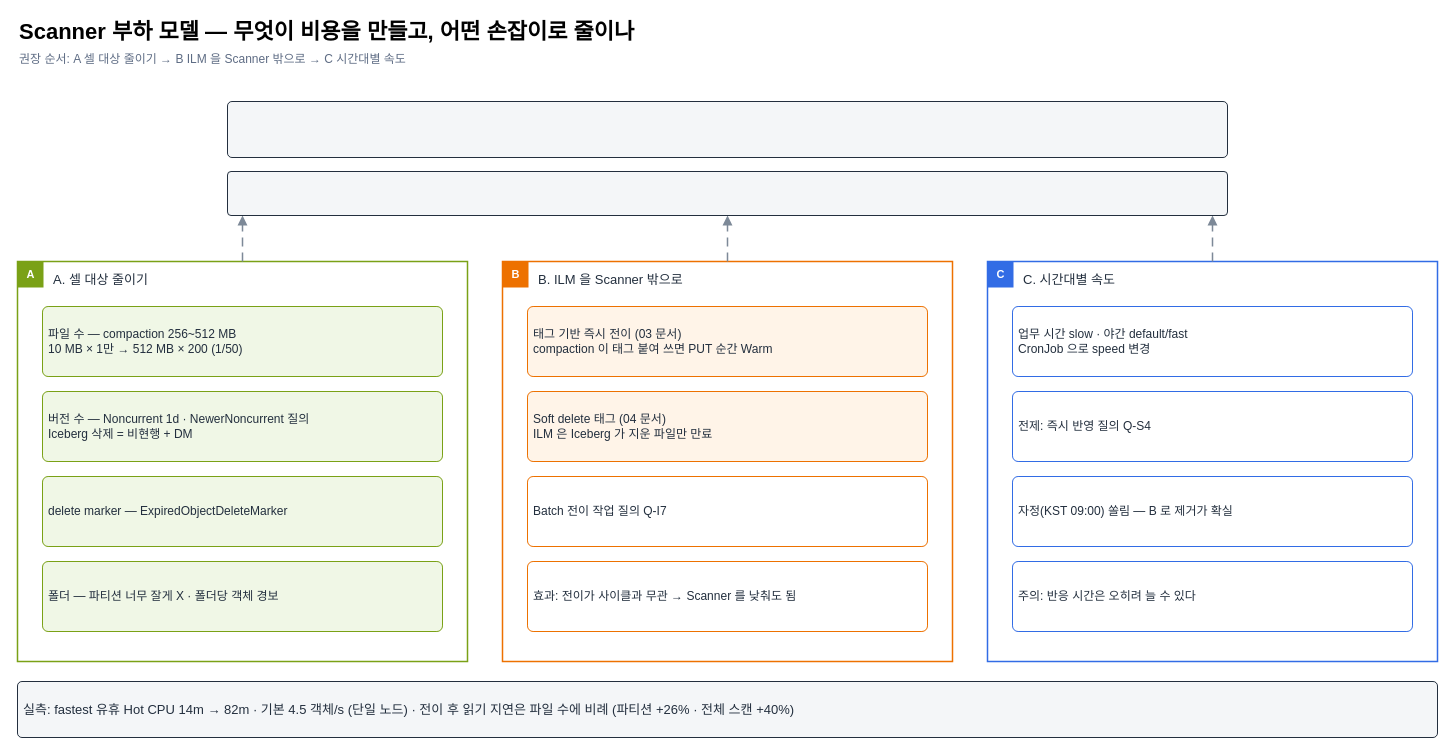
This 1456x755 diagram has some shape labels left out. The centre of each missing label's shape, as x and y in pixels:
ILM 반응 시간 ≈ Days + 00:00 올림(0~24h) + 사이클 길이(= 비용 ÷ 속도): point 727,193
사이클 비용 ∝ (객체 수 × 평균 버전 수 + 폴더 수) × 객체당 처리(ILM · 사용량 · healing · 복제): point 727,129
